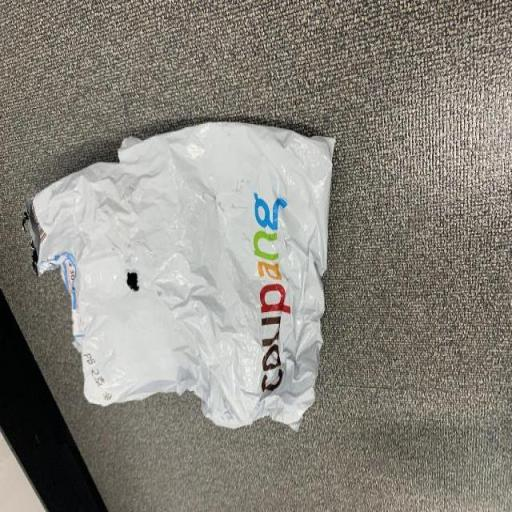plastic-bag: (20, 112, 340, 430)
